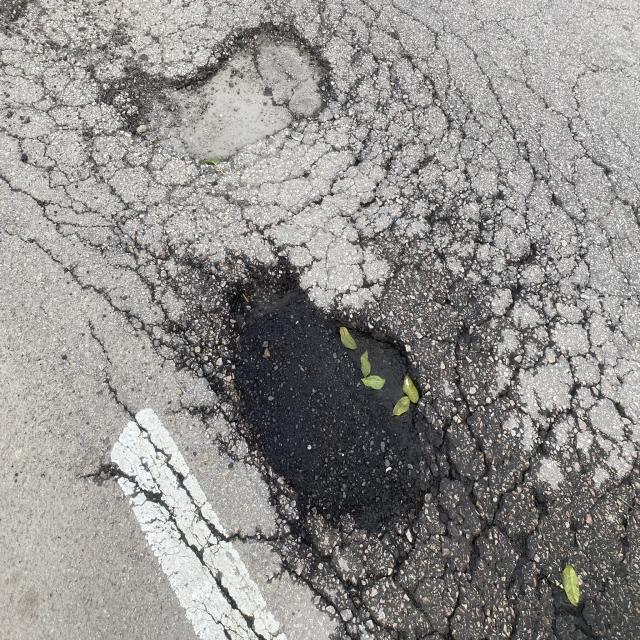pothole: (142, 232, 528, 562), (115, 6, 373, 180)
